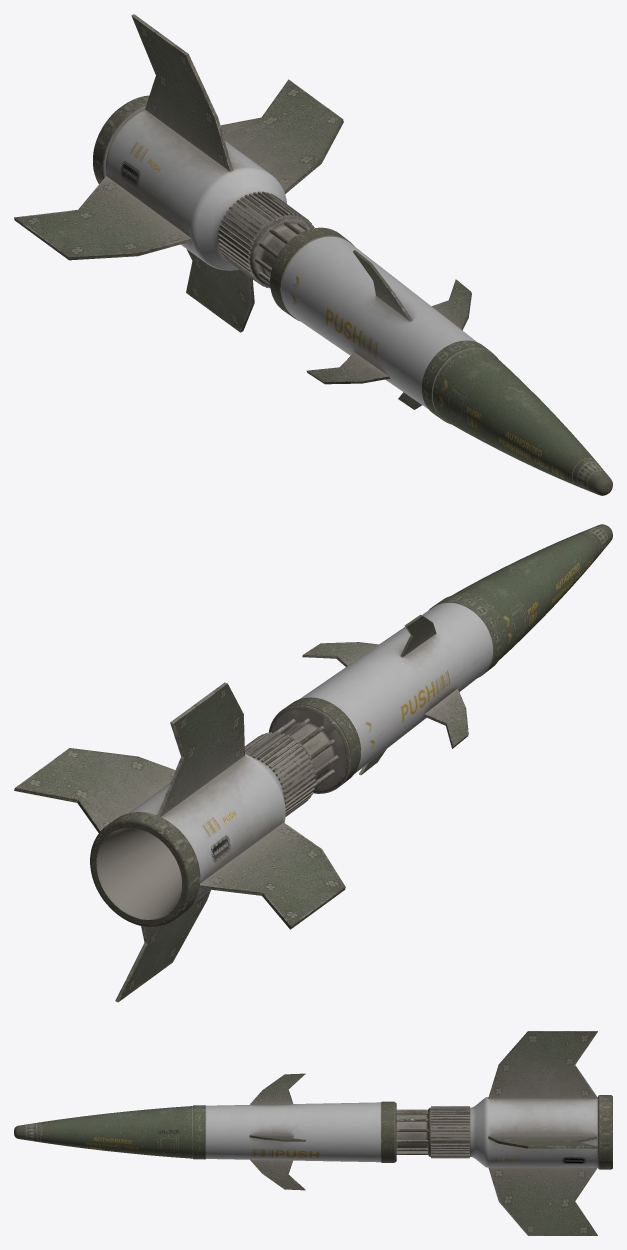
The model's file is amateur_rocketry.glb.
The picture shows the model from 3 angles, top to bottom: view 1: azimuth 30°, elevation 25°; view 2: azimuth 150°, elevation 25°; view 3: azimuth 270°, elevation 25°; orthographic projection. The views are drawn at different scales.
Visible parts, largest first — view 1: Object_2; view 2: Object_2; view 3: Object_2.
Part boxes in pixels (box(x1,y1,x2,y2)): Object_2: box(14, 14, 612, 495); Object_2: box(14, 524, 612, 1002); Object_2: box(14, 1031, 612, 1235).
Bounding box in the file's own units: 289 × 292 × 845.
Materials: 1 (1 with a texture image).
